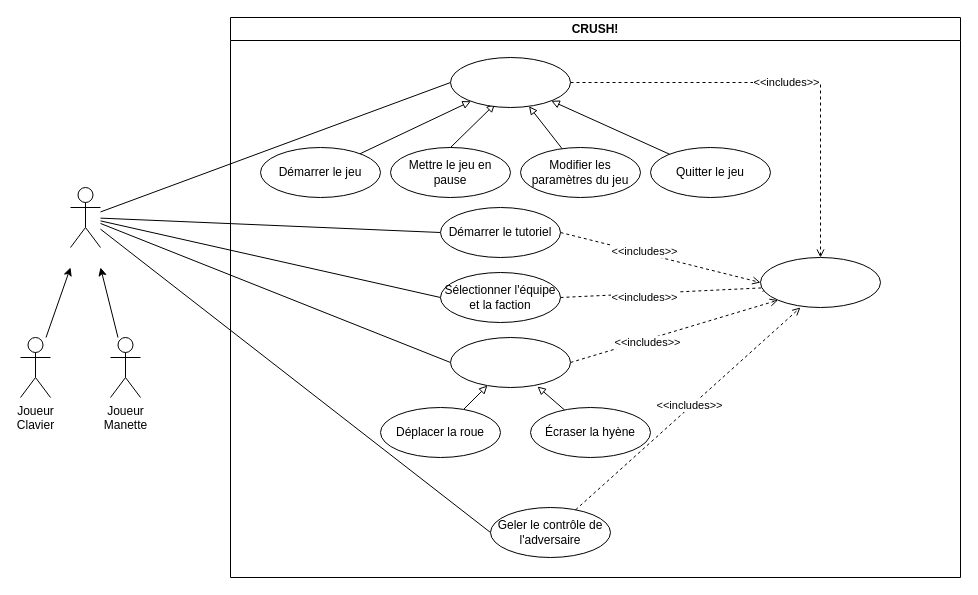
Some shapes in this 978 by 595 pixel diagram are drawn without their labels. The centre of each missing label's shape, as x and y in pixels:
"Accepter le EULA" goes at [820,282].
"Gérer la roue partagée" goes at [510,362].
"Gérer la session de jeu" goes at [510,82].
"Joueur" goes at [85,217].
